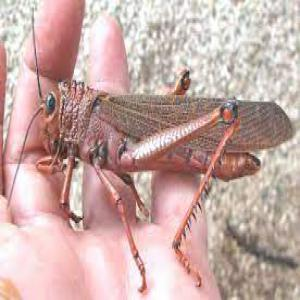locust: (24, 80, 290, 201)
